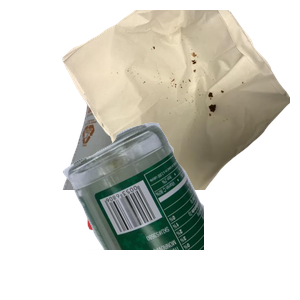glass: (60, 120, 300, 300)
metal: (60, 82, 300, 262)
plastic: (84, 191, 242, 300)
trash: (60, 10, 300, 190)
